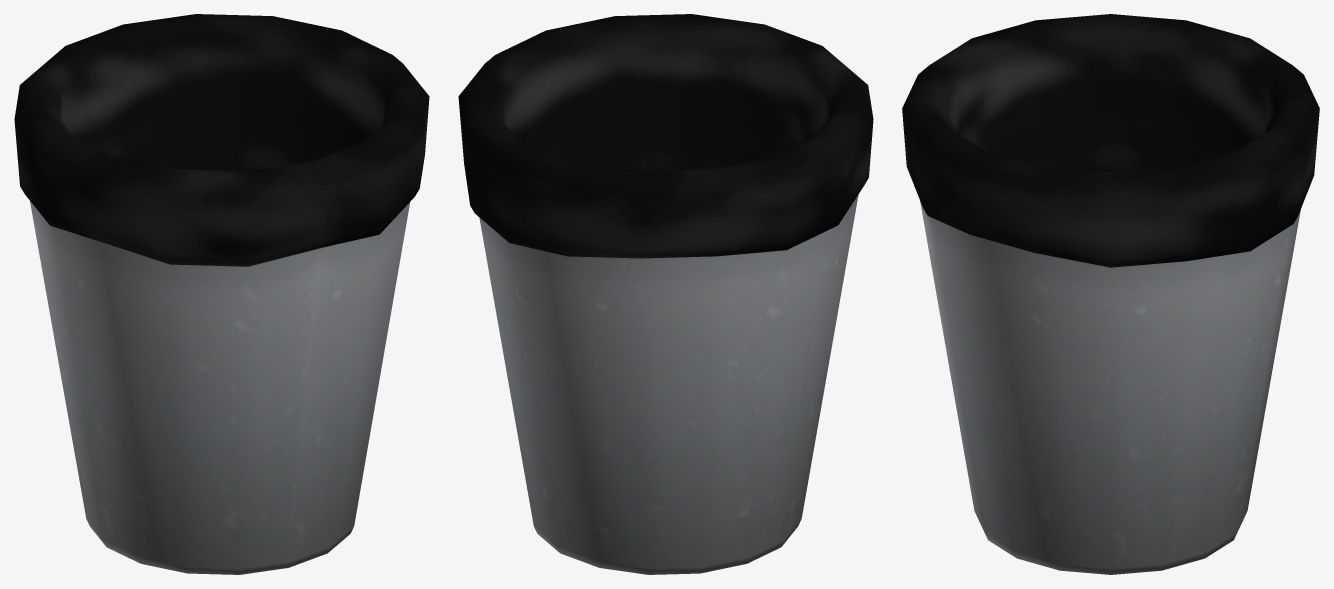
File: OfficeTrashCan02.fbx
The picture shows the model from 3 angles, left to right: view 1: azimuth 30°, elevation 25°; view 2: azimuth 150°, elevation 25°; view 3: azimuth 270°, elevation 25°; orthographic projection.
Visible parts, largest first — view 1: OfficeTrashCan02; view 2: OfficeTrashCan02; view 3: OfficeTrashCan02.
Part boxes in pixels (x1,y1,x2,y2): OfficeTrashCan02: [14, 14, 429, 574]; OfficeTrashCan02: [458, 14, 873, 574]; OfficeTrashCan02: [902, 14, 1319, 574].
Size of the model in its own units: 0.527 by 0.591 by 0.527.
1 material, 1 textured.
